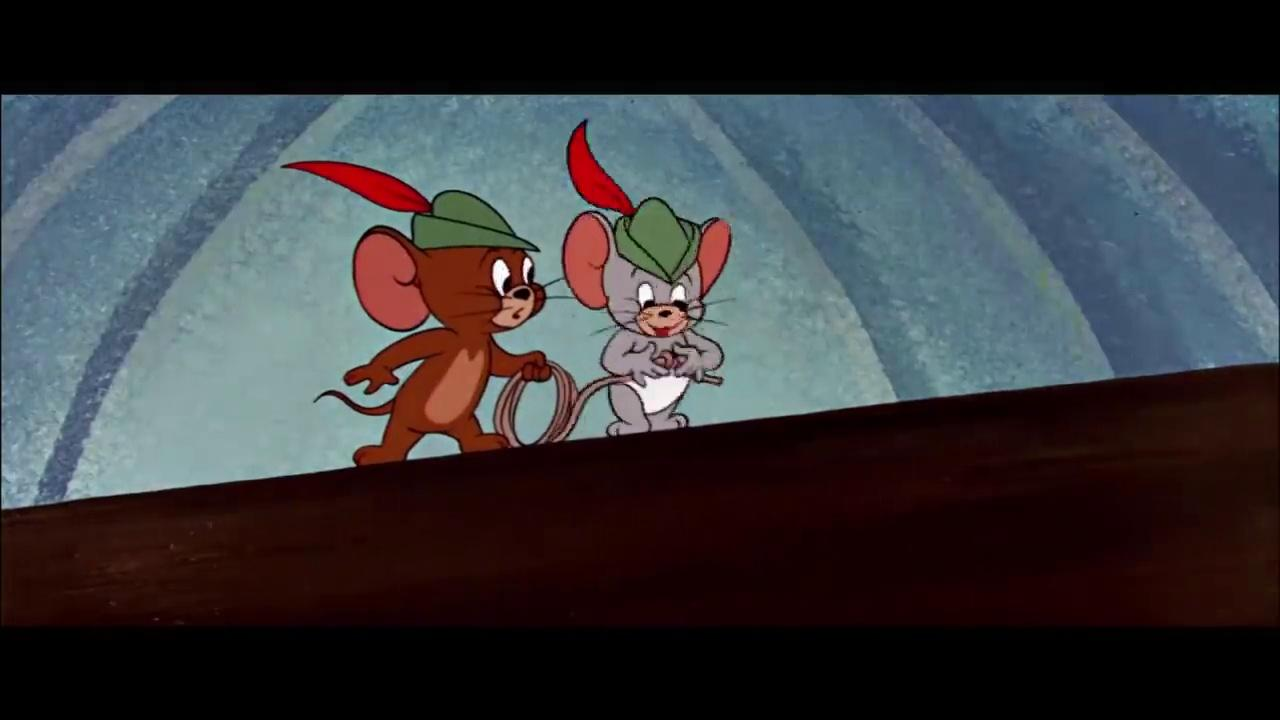Jerry: (312, 222, 563, 467)
